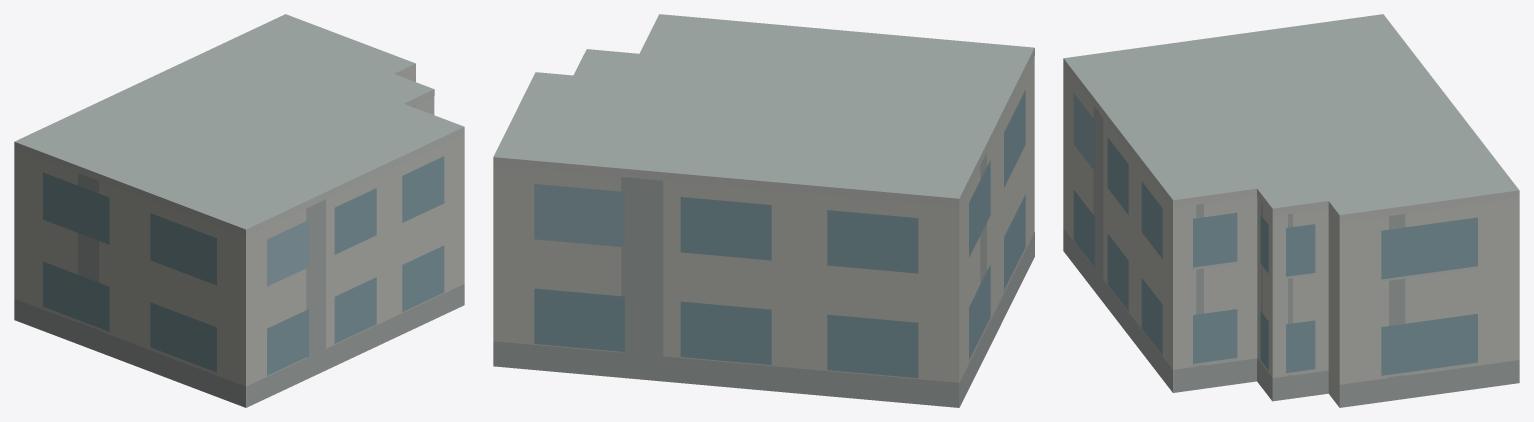
File: residential-92345e34-16f5-4249-8da9-c9230244300d.glb
3 renders of one model, left to right at view 1: azimuth 30°, elevation 25°; view 2: azimuth 150°, elevation 25°; view 3: azimuth 270°, elevation 25°, orthographic. The views are drawn at different scales.
Parts seen in each view (by area): view 1: residential-92345e34-16f5-4249-8da9-c9230244300d.tmp; view 2: residential-92345e34-16f5-4249-8da9-c9230244300d.tmp; view 3: residential-92345e34-16f5-4249-8da9-c9230244300d.tmp.
Boxes of the visible parts, <box> form: residential-92345e34-16f5-4249-8da9-c9230244300d.tmp: <box>14,14,464,407</box>; residential-92345e34-16f5-4249-8da9-c9230244300d.tmp: <box>493,14,1034,407</box>; residential-92345e34-16f5-4249-8da9-c9230244300d.tmp: <box>1063,14,1519,407</box>.
Size of the model in its own units: 13.44 by 6 by 12.88.
